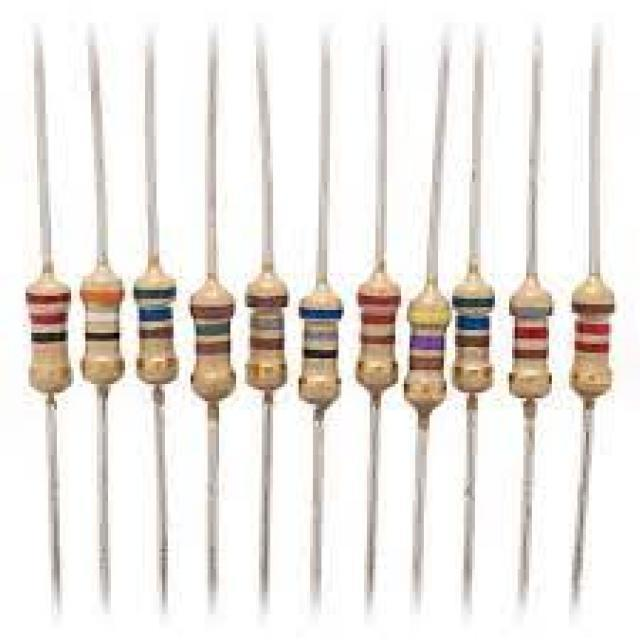Resistor: (404, 280, 450, 415), (570, 274, 614, 401), (26, 272, 71, 393), (509, 275, 552, 401), (191, 278, 234, 402), (134, 260, 177, 384), (356, 271, 399, 394), (299, 286, 342, 408), (80, 264, 123, 386), (452, 268, 493, 393), (246, 272, 287, 392)
blue: (298, 306, 342, 319), (456, 315, 489, 330)
brown: (191, 302, 235, 318), (249, 337, 285, 351), (195, 340, 231, 353), (139, 327, 173, 339), (455, 337, 489, 347)
gold: (81, 359, 123, 380), (357, 362, 399, 374), (247, 363, 288, 374), (403, 382, 447, 392)
green: (195, 322, 232, 333)
purple: (411, 336, 444, 350)
red: (573, 340, 609, 354), (514, 326, 549, 339), (571, 322, 611, 333)
